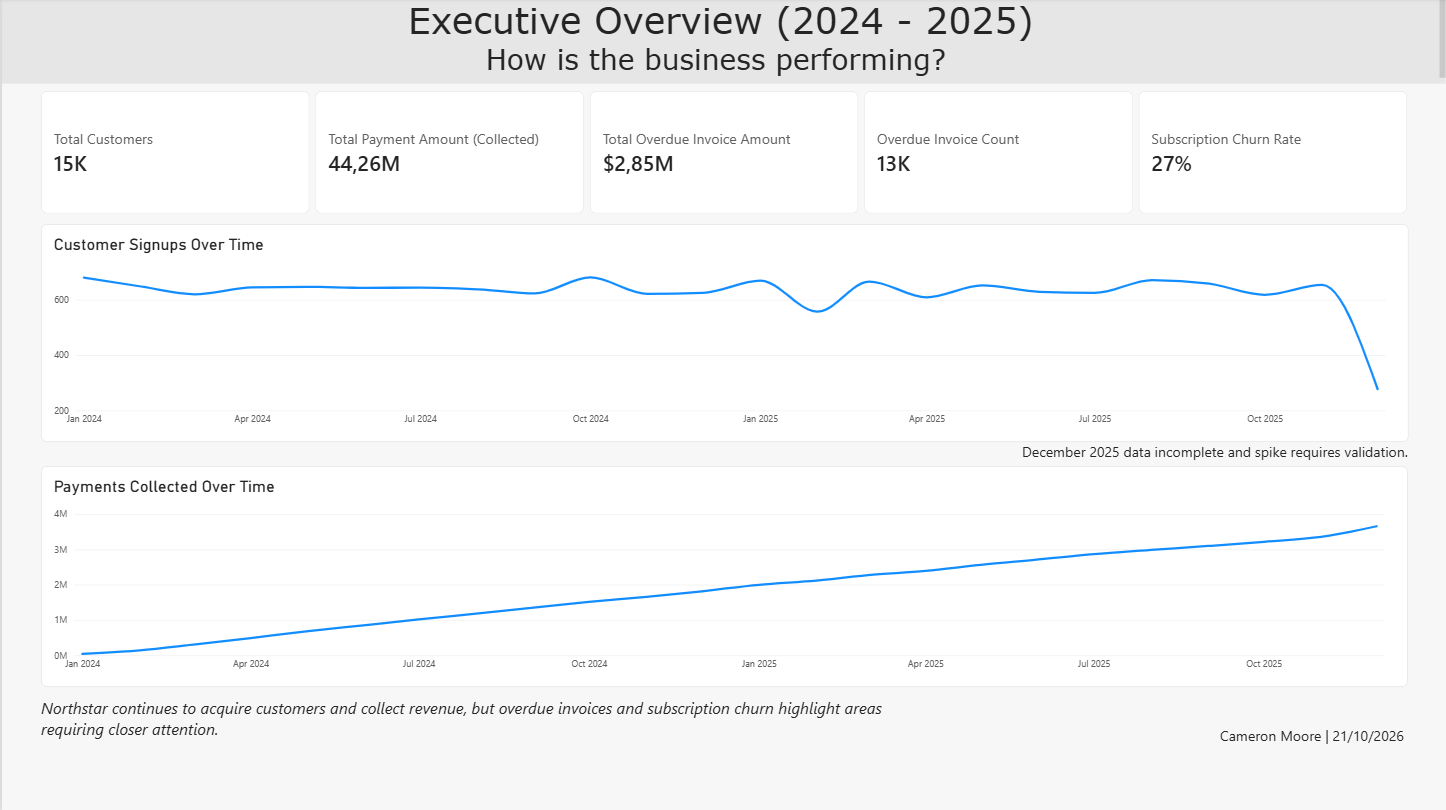

Layout of this report page (visuals, bound fields, positions):
{"tool":"powerbi","page":{"name":"Executive Overview","canvas":[1920,1080],"ordinal":0},"visuals":[{"type":"textbox","box":[0,0,1920,114.3],"z":0},{"type":"cardVisual","fields":{"Data":["Count(northstar_workflow customers.customer_id)","northstar_workflow opportunities.Total Revenue Collected","northstar_workflow companies.Overdue Invoice Value","northstar_workflow companies.Overdue Invoice Count","northstar_workflow companies.Overall Churn Rate"]},"box":[51.2,123.8,1817.5,163.8],"z":1000},{"type":"lineChart","title":"Customer Signups Over Time","fields":{"Category":["northstar_workflow customers.signup_date.Variation.Date Hierarchy.Year","northstar_workflow customers.signup_date.Variation.Date Hierarchy.Month"],"Y":["Count(northstar_workflow customers.customer_id)"]},"box":[51.2,300,1818.8,290],"z":2000},{"type":"lineChart","title":"Payments Collected Over Time","fields":{"Category":["northstar_workflow payments.payment_date.Variation.Date Hierarchy.Year","northstar_workflow payments.payment_date.Variation.Date Hierarchy.Month"],"Y":["Sum(northstar_workflow payments.amount_usd)"]},"box":[52.5,622.5,1817.5,293.8],"z":3000},{"type":"textbox","box":[1620,968.8,260,25],"z":4000},{"type":"textbox","box":[1356.2,590,523.8,32.5],"z":5000},{"type":"textbox","box":[52.5,930,1132.5,78.8],"z":6000}]}

Visuals, with their boxes in screenshot pixels (x1, y1, x2, y2), scaled from the page's 1920x1080 canvas onto the 1446x810 screenshot:
textbox: bbox(0, 0, 1445, 86)
cardVisual - Count(northstar_workflow customers.customer_id) x northstar_workflow opportunities.Total Revenue Collected: bbox(39, 93, 1407, 216)
"Customer Signups Over Time" lineChart: bbox(39, 225, 1408, 442)
"Payments Collected Over Time" lineChart: bbox(40, 467, 1408, 687)
textbox: bbox(1220, 727, 1416, 745)
textbox: bbox(1021, 442, 1416, 467)
textbox: bbox(40, 698, 892, 757)
